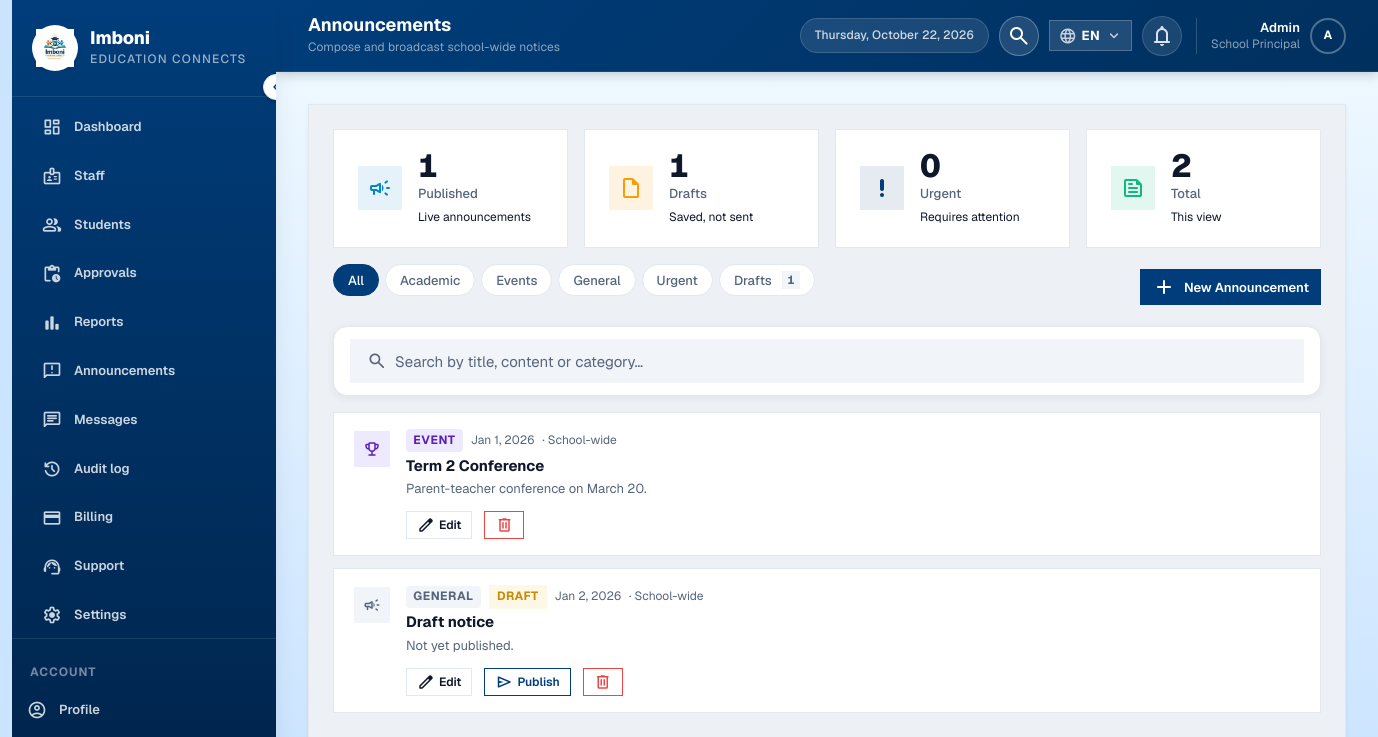
Test: AdminAnnouncements › filters the feed by search text
The image size is (1378, 737).
Expected: the heading "Term 2 Conference" is shown, [406,456,544,474]
Type "Draft" into the search field with placeholder "Search by title, content or category…" at (841, 361), box [395,341,1287,382]
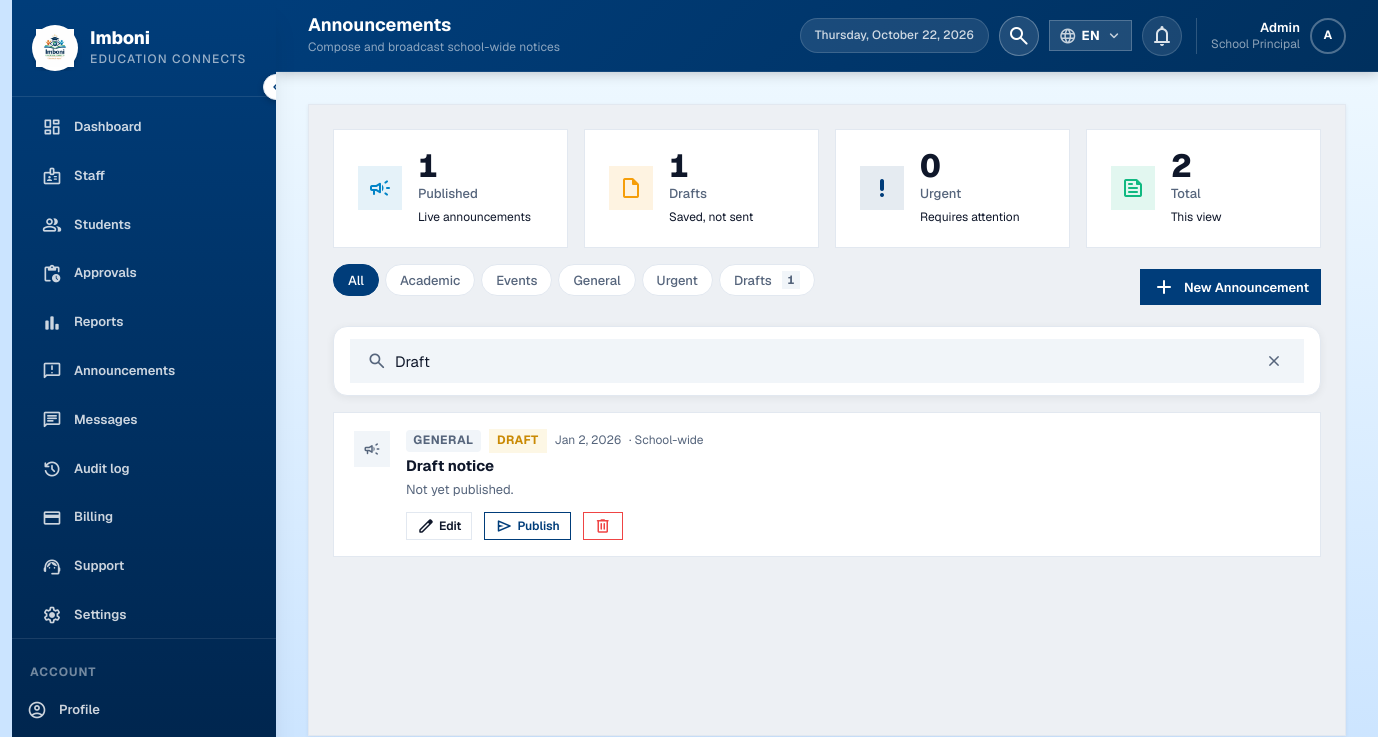
Expected: the heading "Draft notice" is shown, [406,456,494,475]
Now the heading "Term 2 Conference" is gone
